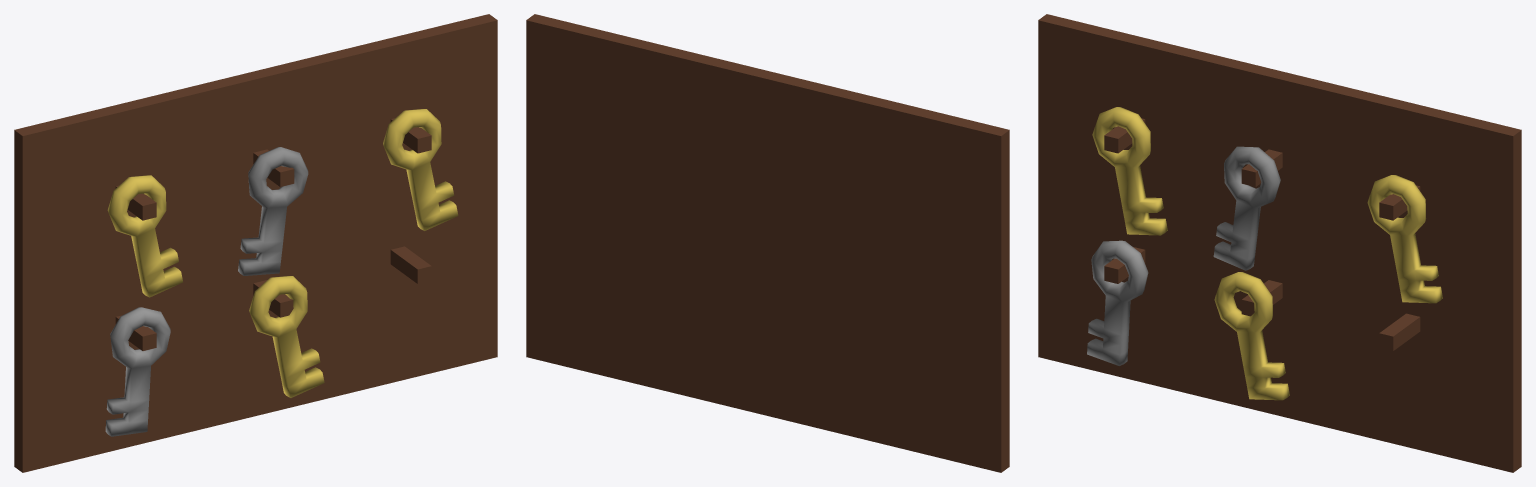
Rendered from keyshelf.fbx.
3 renders of one model, left to right at view 1: azimuth 30°, elevation 25°; view 2: azimuth 150°, elevation 25°; view 3: azimuth 330°, elevation 25°, orthographic.
Visible parts, largest first — view 1: keyshelf; view 2: keyshelf; view 3: keyshelf.
Boxes of the visible parts, x1,y1,x2,y2 form: keyshelf: [14, 14, 497, 472]; keyshelf: [526, 14, 1009, 472]; keyshelf: [1038, 14, 1521, 472].
Bounding box in the file's own units: 82.23 × 55.71 × 11.57.
